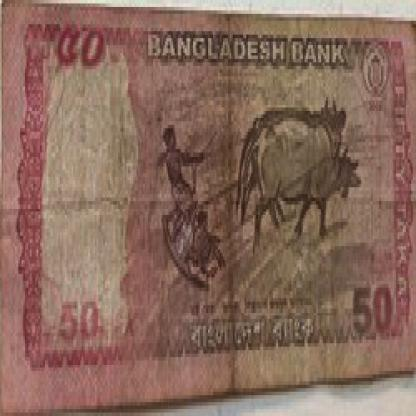Fifty taka: (349, 284, 398, 361), (58, 24, 116, 83)
